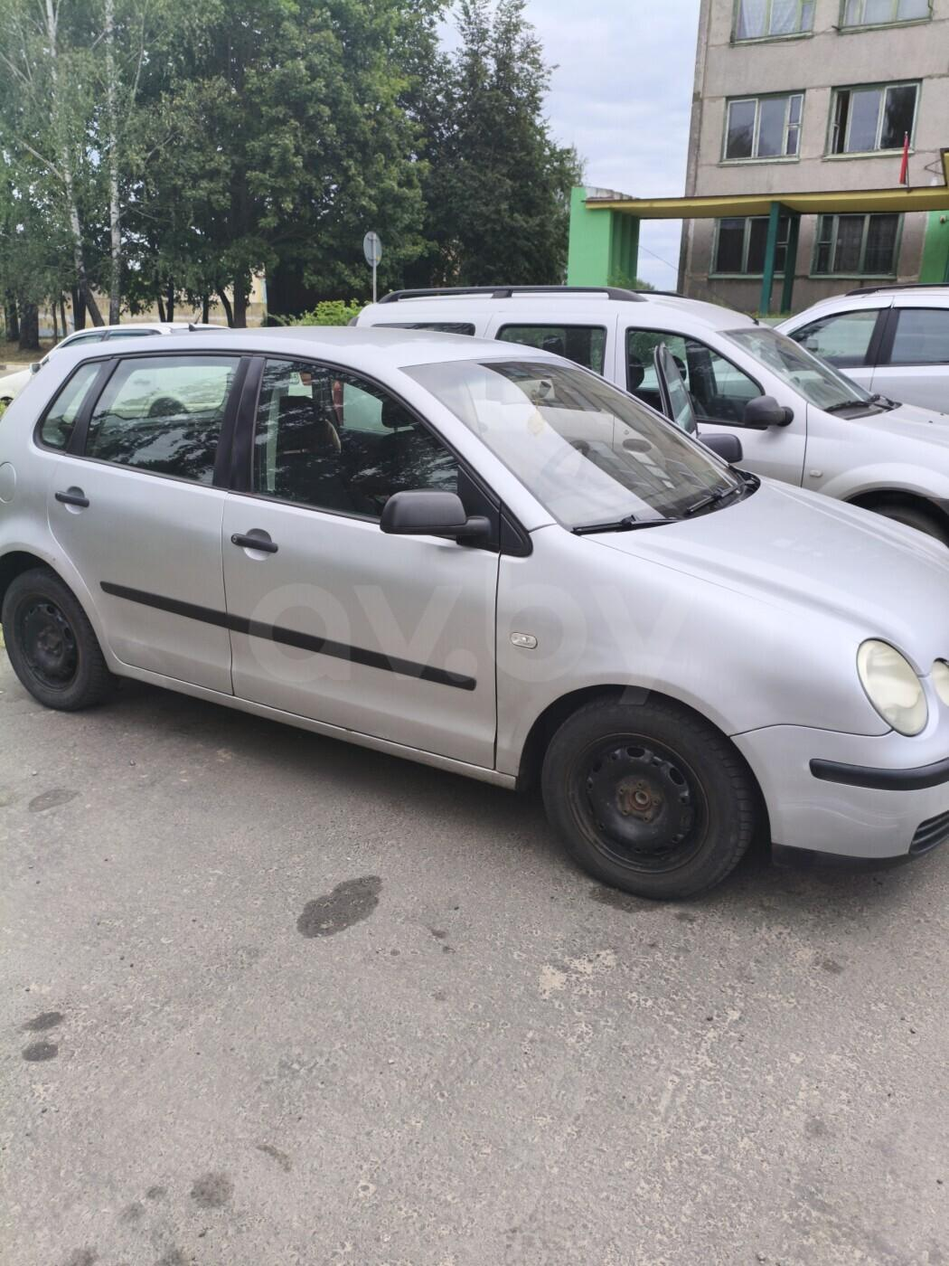Polo_2001-2005: (0, 315, 949, 899)
